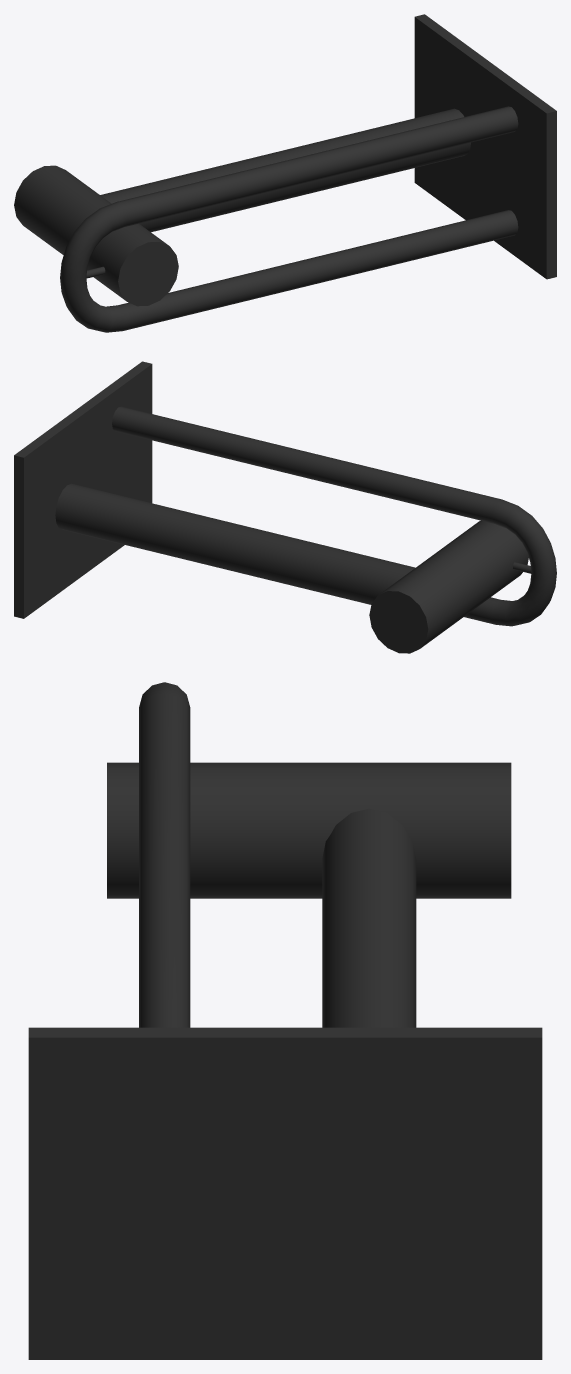
The model's file is Basket_x564_y0.obj.
3 renders of one model, top to bottom at view 1: azimuth 30°, elevation 25°; view 2: azimuth 150°, elevation 25°; view 3: azimuth 270°, elevation 25°, orthographic. The views are drawn at different scales.
Visible parts, largest first — view 1: Querträger_einfach.007, Cylinder.008, Cylinder.009; view 2: Querträger_einfach.007, Cylinder.009, Cylinder.008; view 3: Querträger_einfach.007, Cylinder.008, Cylinder.009.
Part boxes in pixels (x1,y1,x2,y2): Querträger_einfach.007: [60, 14, 556, 332]; Cylinder.008: [14, 165, 178, 306]; Cylinder.009: [100, 108, 470, 232]; Querträger_einfach.007: [14, 361, 556, 626]; Cylinder.009: [55, 483, 415, 604]; Cylinder.008: [369, 520, 528, 653]; Querträger_einfach.007: [28, 682, 542, 1359]; Cylinder.008: [107, 762, 511, 898]; Cylinder.009: [322, 808, 416, 1027].
Bounding box in the file's own units: 0.674 × 0.2323 × 0.3353.
